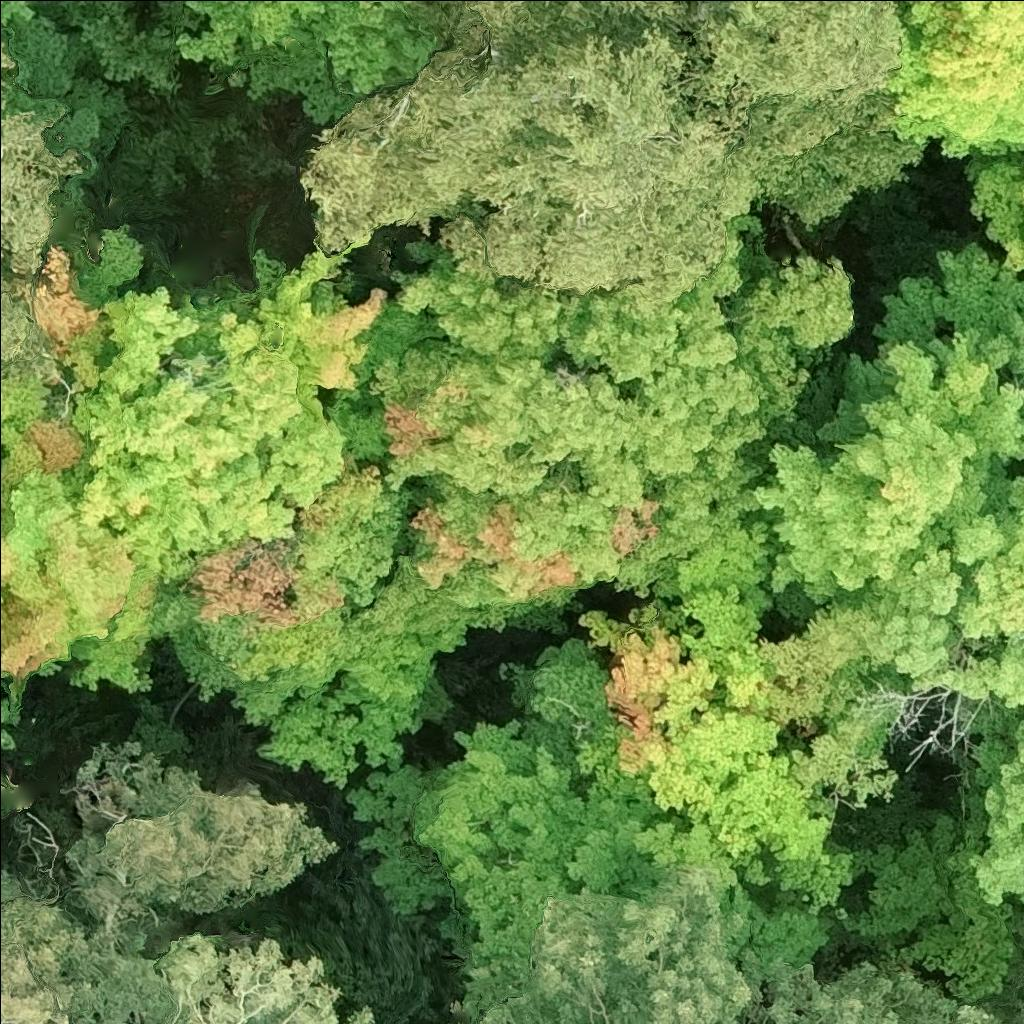crown: (254, 242, 603, 786), (86, 224, 420, 719), (581, 490, 869, 968), (528, 210, 851, 597), (301, 20, 744, 300), (349, 719, 694, 973), (461, 868, 958, 1023), (0, 226, 153, 719), (755, 327, 1023, 603), (807, 459, 1023, 800), (686, 0, 941, 226), (65, 744, 339, 935), (839, 717, 1023, 996), (0, 0, 125, 392), (816, 245, 1023, 439), (0, 877, 170, 1023), (179, 0, 440, 93), (880, 0, 1023, 155), (500, 635, 622, 794), (151, 937, 340, 1023), (61, 0, 205, 99), (464, 0, 702, 34), (972, 166, 1023, 272), (953, 1009, 992, 1023), (0, 727, 14, 746), (0, 702, 14, 721), (350, 1010, 370, 1023), (1021, 404, 1023, 415), (0, 455, 1, 470), (1022, 992, 1023, 1003)
